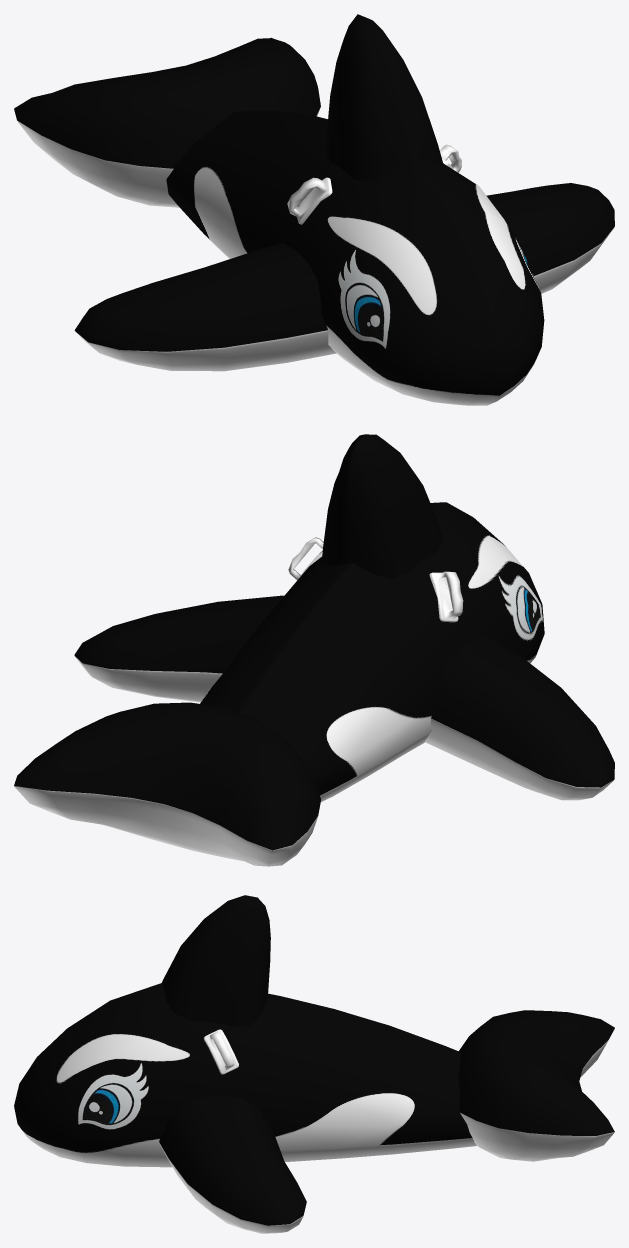
The model's file is orca__killer_whale.glb.
The picture shows the model from 3 angles, top to bottom: view 1: azimuth 30°, elevation 25°; view 2: azimuth 150°, elevation 25°; view 3: azimuth 270°, elevation 25°; orthographic projection. The views are drawn at different scales.
Parts seen in each view (by area): view 1: Object_3, Object_2; view 2: Object_3, Object_2; view 3: Object_3, Object_2.
Part boxes in pixels (left/top/right/bottom): Object_3: left=14, top=14, right=614, bottom=405; Object_2: left=287, top=144, right=461, bottom=224; Object_3: left=14, top=434, right=614, bottom=866; Object_2: left=288, top=537, right=463, bottom=622; Object_3: left=14, top=895, right=614, bottom=1233; Object_2: left=203, top=1029, right=238, bottom=1074.
Bounding box in the file's own units: 2.64 × 1.51 × 3.13.
2 materials, 1 textured.
